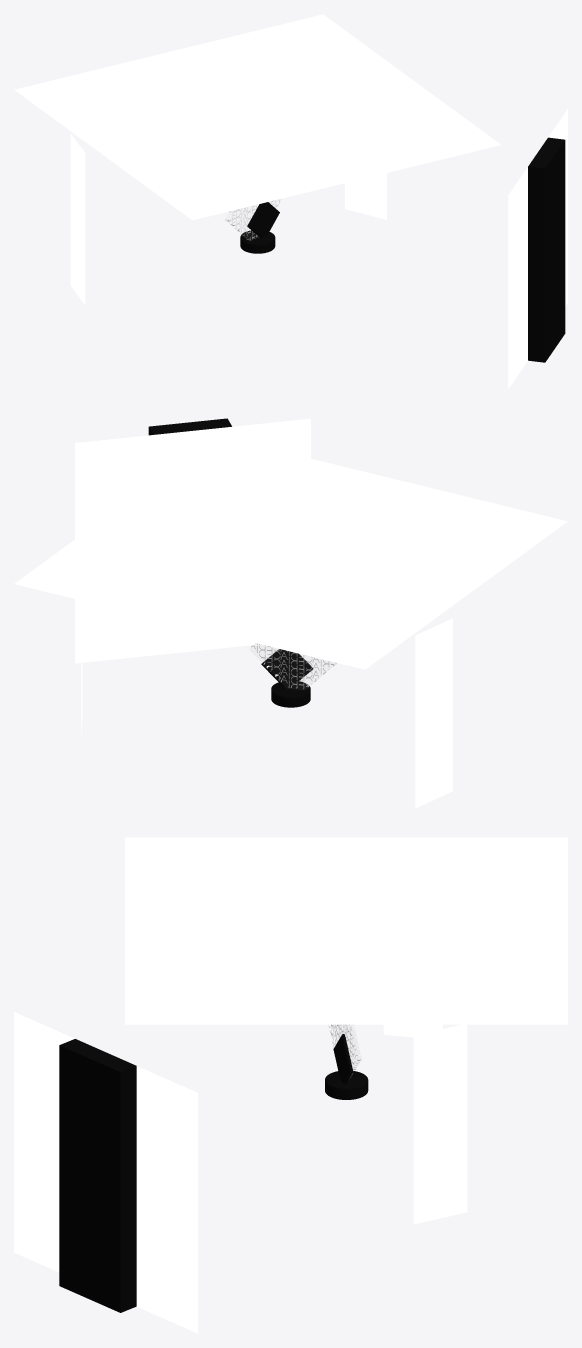
File: CEDIA AWARD 03.gltf
3 renders of one model, top to bottom at view 1: azimuth 30°, elevation 25°; view 2: azimuth 150°, elevation 25°; view 3: azimuth 270°, elevation 25°, orthographic. The views are drawn at different scales.
Visible parts, largest first — view 1: roof, Extrude, light main, light face, light face2, Gass dimond.2, Cylinder; view 2: roof, light main, light face, Gass dimond.2, Cylinder, Extrude, front-Mat; view 3: roof, light main, Extrude, light face2, Cylinder, light face, Gass dimond.2.
Part boxes in pixels (<box>): roof: <box>14,14,500,220</box>; Extrude: <box>528,137,565,362</box>; light main: <box>508,109,567,388</box>; light face: <box>70,134,85,304</box>; light face2: <box>345,173,386,219</box>; Gass dimond.2: <box>247,202,279,238</box>; Cylinder: <box>240,230,275,253</box>; roof: <box>14,436,567,669</box>; light main: <box>75,418,310,663</box>; light face: <box>415,618,452,808</box>; Gass dimond.2: <box>261,649,312,686</box>; Cylinder: <box>271,681,310,707</box>; Extrude: <box>148,418,231,435</box>; front-Mat: <box>250,643,336,688</box>; roof: <box>125,837,567,1024</box>; light main: <box>14,1012,197,1333</box>; Extrude: <box>59,1039,136,1312</box>; light face2: <box>413,1024,467,1224</box>; Cylinder: <box>325,1071,368,1099</box>; light face: <box>383,1024,442,1037</box>; Gass dimond.2: <box>333,1034,353,1083</box>.
Size of the model in its own units: 2638 by 1252 by 2502.
Materials: 7 (1 with a texture image).
